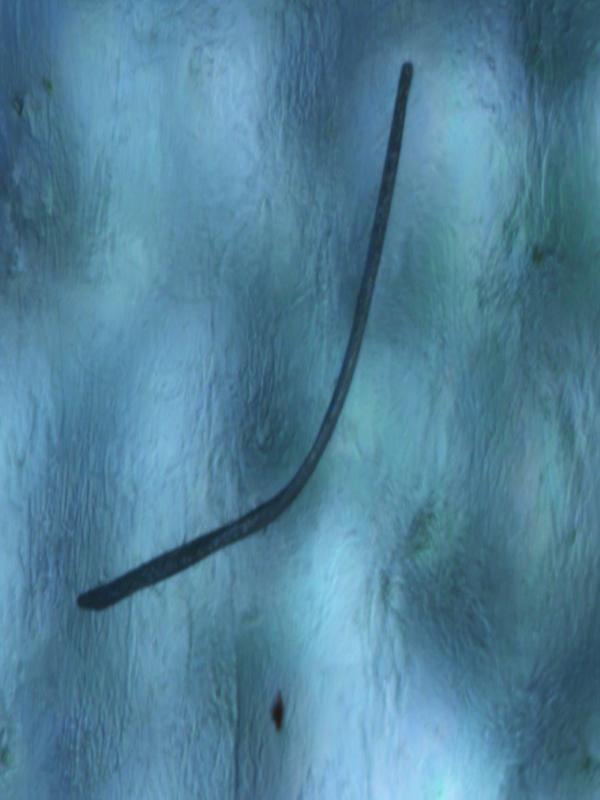microplastic: (75, 58, 414, 613)
